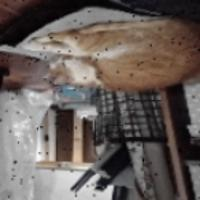asleep: (21, 14, 200, 93)
